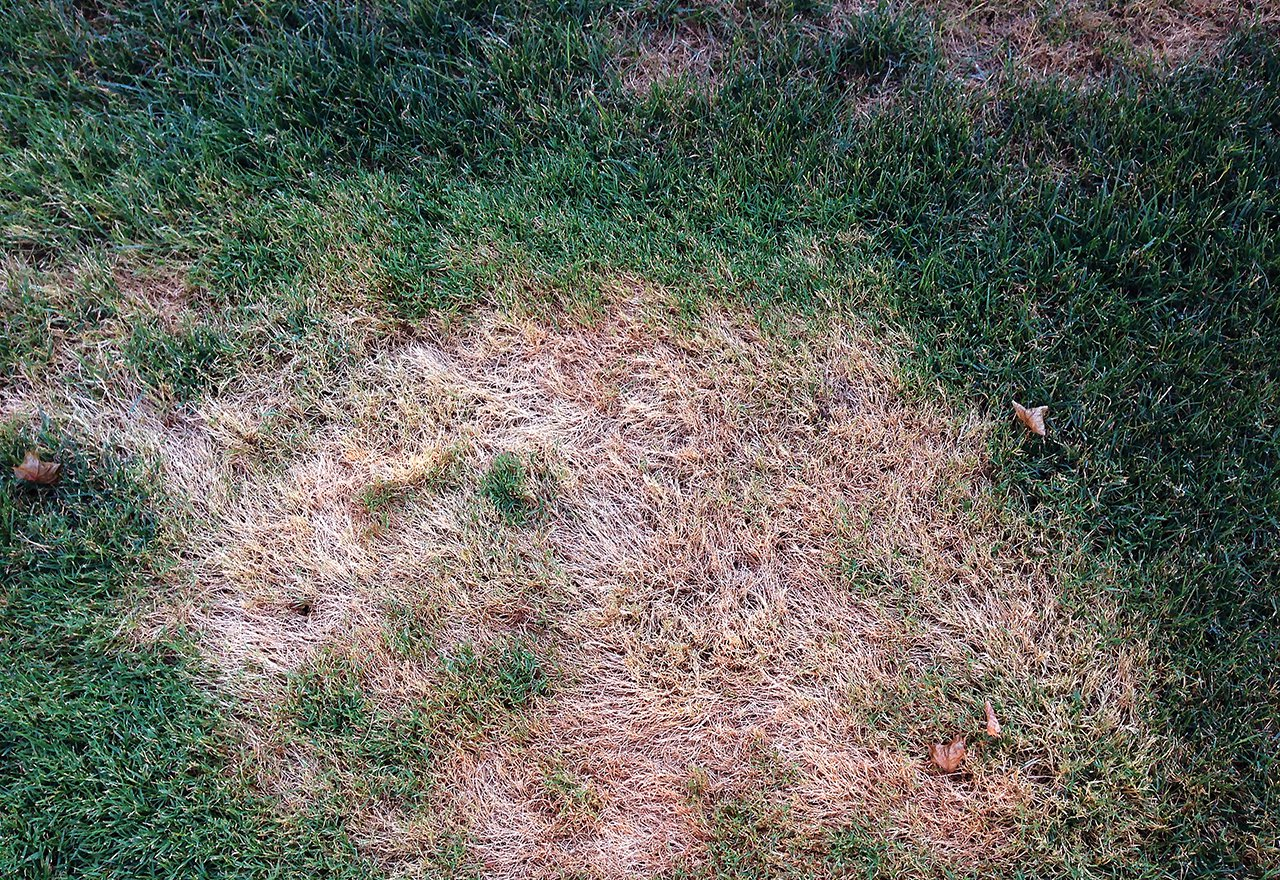crabgrass: (11, 632, 269, 880), (486, 458, 585, 545), (305, 682, 411, 752), (488, 651, 564, 708)
